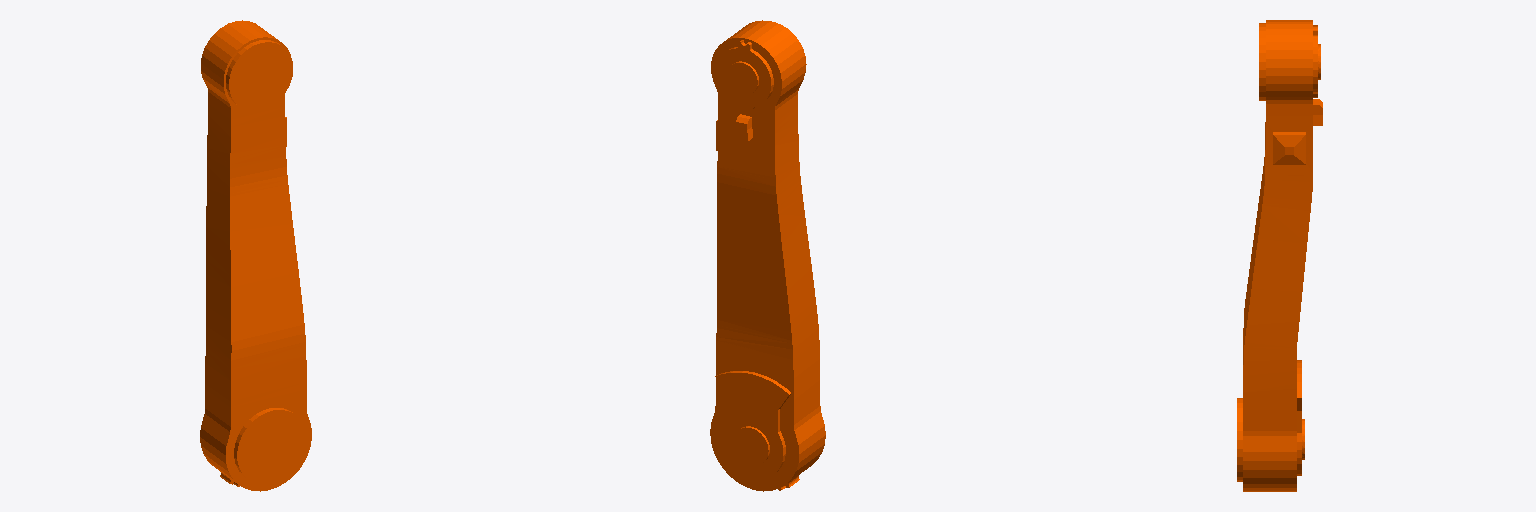
The robot description file, URDF, robot "abb_irb1600_6_12":
<?xml version="1.0" ?>
<!-- =================================================================================== -->
<!-- |    This document was autogenerated by xacro from irb1600_6_12.xacro             | -->
<!-- |    EDITING THIS FILE BY HAND IS NOT RECOMMENDED                                 | -->
<!-- =================================================================================== -->
<robot name="abb_irb1600_6_12">
  <!-- link list -->
  <link name="base_link">
    <visual>
      <origin rpy="0 0 0" xyz="0 0 0"/>
      <geometry>
        <mesh filename="package://abb_irb1600_support/meshes/irb1600/visual/base_link.stl"/>
      </geometry>
      <material name="abb_orange">
        <color rgba="1 0.43 0 1"/>
      </material>
    </visual>
    <collision>
      <geometry>
        <mesh filename="package://abb_irb1600_support/meshes/irb1600/collision/base_link.stl"/>
      </geometry>
      <material name="yellow">
        <color rgba="0 1 1 1"/>
      </material>
    </collision>
  </link>
  <link name="link_1">
    <visual>
      <origin rpy="0 0 0" xyz="0 0 0"/>
      <geometry>
        <mesh filename="package://abb_irb1600_support/meshes/irb1600/visual/link_1.stl"/>
      </geometry>
      <material name="abb_orange"/>
    </visual>
    <collision>
      <origin rpy="0 0 0" xyz="0 0 0"/>
      <geometry>
        <mesh filename="package://abb_irb1600_support/meshes/irb1600/collision/link_1.stl"/>
      </geometry>
      <material name="yellow"/>
    </collision>
  </link>
  <link name="link_2">
    <visual>
      <origin rpy="0 0 0" xyz="0 0 0"/>
      <geometry>
        <mesh filename="package://abb_irb1600_support/meshes/irb1600_6_12/visual/link_2.stl"/>
      </geometry>
      <material name="abb_orange"/>
    </visual>
    <collision>
      <origin rpy="0 0 0" xyz="0 0 0"/>
      <geometry>
        <mesh filename="package://abb_irb1600_support/meshes/irb1600_6_12/collision/link_2.stl"/>
      </geometry>
      <material name="yellow"/>
    </collision>
  </link>
  <link name="link_3">
    <visual>
      <origin rpy="0 0 0" xyz="0 0 0"/>
      <geometry>
        <mesh filename="package://abb_irb1600_support/meshes/irb1600/visual/link_3.stl"/>
      </geometry>
      <material name="abb_orange"/>
    </visual>
    <collision>
      <origin rpy="0 0 0" xyz="0 0 0"/>
      <geometry>
        <mesh filename="package://abb_irb1600_support/meshes/irb1600/collision/link_3.stl"/>
      </geometry>
      <material name="yellow"/>
    </collision>
  </link>
  <link name="link_4">
    <visual>
      <origin rpy="0 0 0" xyz="0 0 0"/>
      <geometry>
        <mesh filename="package://abb_irb1600_support/meshes/irb1600/visual/link_4.stl"/>
      </geometry>
      <material name="abb_orange"/>
    </visual>
    <collision>
      <origin rpy="0 0 0" xyz="0 0 0"/>
      <geometry>
        <mesh filename="package://abb_irb1600_support/meshes/irb1600/collision/link_4.stl"/>
      </geometry>
      <material name="yellow"/>
    </collision>
  </link>
  <link name="link_5">
    <visual>
      <origin rpy="0 0 0" xyz="0 0 0"/>
      <geometry>
        <mesh filename="package://abb_irb1600_support/meshes/irb1600/visual/link_5.stl"/>
      </geometry>
      <material name="abb_orange"/>
    </visual>
    <collision>
      <origin rpy="0 0 0" xyz="0 0 0"/>
      <geometry>
        <mesh filename="package://abb_irb1600_support/meshes/irb1600/collision/link_5.stl"/>
      </geometry>
      <material name="yellow"/>
    </collision>
  </link>
  <link name="link_6">
    <visual>
      <origin rpy="0 0 0" xyz="0 0 0"/>
      <geometry>
        <mesh filename="package://abb_irb1600_support/meshes/irb1600/visual/link_6.stl"/>
      </geometry>
      <material name="abb_orange"/>
    </visual>
    <collision>
      <origin rpy="0 0 0" xyz="0 0 0"/>
      <geometry>
        <mesh filename="package://abb_irb1600_support/meshes/irb1600/collision/link_6.stl"/>
      </geometry>
      <material name="yellow"/>
    </collision>
  </link>
  <!-- end of link list -->
  <!-- joint list -->
  <joint name="joint_1" type="revolute">
    <origin rpy="0 0 0" xyz="0 0 0"/>
    <parent link="base_link"/>
    <child link="link_1"/>
    <axis xyz="0 0 1"/>
    <limit effort="0" lower="-3.141592653589793" upper="3.141592653589793" velocity="2.618"/>
  </joint>
  <joint name="joint_2" type="revolute">
    <origin rpy="0 0 0" xyz="0.15 0 0.4865"/>
    <parent link="link_1"/>
    <child link="link_2"/>
    <axis xyz="0 1 0"/>
    <limit effort="0" lower="-1.0995" upper="1.9198" velocity="2.7925"/>
  </joint>
  <joint name="joint_3" type="revolute">
    <origin rpy="0 0 0" xyz="0 0 0.475"/>
    <parent link="link_2"/>
    <child link="link_3"/>
    <axis xyz="0 1 0"/>
    <limit effort="0" lower="-4.1015" upper="0.9599" velocity="2.9670"/>
  </joint>
  <joint name="joint_4" type="revolute">
    <origin rpy="0 0 0" xyz="0.300 0 0"/>
    <parent link="link_3"/>
    <child link="link_4"/>
    <axis xyz="1 0 0"/>
    <limit effort="0" lower="-3.4906" upper="3.4906" velocity="5.5850"/>
  </joint>
  <joint name="joint_5" type="revolute">
    <origin rpy="0 0 0" xyz="0.300 0 0"/>
    <parent link="link_4"/>
    <child link="link_5"/>
    <axis xyz="0 1 0"/>
    <limit effort="0" lower="-2.0071" upper="2.0071" velocity="6.9813"/>
  </joint>
  <joint name="joint_6" type="revolute">
    <origin rpy="0 0 0" xyz="0.065 0 0"/>
    <parent link="link_5"/>
    <child link="link_6"/>
    <axis xyz="1 0 0"/>
    <limit effort="0" lower="-6.9813" upper="6.9813" velocity="7.854"/>
  </joint>
  <!-- end of joint list -->
  <!-- ROS-Industrial 'base' frame: base_link to ABB World Coordinates transform -->
  <link name="base"/>
  <joint name="base_link-base" type="fixed">
    <origin rpy="0 0 0" xyz="0 0 0"/>
    <parent link="base_link"/>
    <child link="base"/>
  </joint>
  <!-- ROS-Industrial 'flange' frame: attachment point for EEF models -->
  <link name="flange"/>
  <joint name="joint_6-flange" type="fixed">
    <origin rpy="0 0 0" xyz="0 0 0"/>
    <parent link="link_6"/>
    <child link="flange"/>
  </joint>
  <!-- ROS-Industrial 'tool0' frame: all-zeros tool frame -->
  <!-- <link name="tool0"/>
  <joint name="link_6-tool0" type="fixed">
    <origin rpy="0 1.5707963267948966 0" xyz="0 0 0"/>
    <parent link="flange"/>
    <child link="tool0"/>
  </joint> -->
  <!-- PowerScan - tool0 -->
  <link name="PowerScan">
    <visual>
      <origin rpy="0 0 0" xyz="0 0 0"/>
      <geometry>
        <mesh filename="package://view_planner/model/PowerScan_small.stl"/>
      </geometry>
      <material name="abb_orange"/>
    </visual>
    <collision>
      <origin rpy="0 0 0" xyz="0 0 0"/>
      <geometry>
        <mesh filename="package://view_planner/model/PowerScan_small.stl"/>
      </geometry>
      <material name="yellow"/>
    </collision>
  </link>
  <joint name="link_6-PowerScan" type="fixed">
    <origin rpy="0 1.5707963267948966 0" xyz="0 0 0"/>
    <parent link="flange"/>
    <child link="PowerScan"/>
  </joint>
</robot>

--- What the picture shows (computed from the rendered views, not written in the file) ---
3 views of the same robot in one strip: view 1: azimuth 30°, elevation 25°; view 2: azimuth 150°, elevation 25°; view 3: azimuth 270°, elevation 25° (orthographic).
Robot: abb_irb1600_6_12 — 10 links, 9 joints (6 revolute, 3 fixed); root link base_link; default pose: all joints at 0.
Visible links, largest first — view 1: link_2; view 2: link_2; view 3: link_2.
Boxes of the visible links, bbox=[...] form: link_2: bbox=[200, 20, 311, 491]; link_2: bbox=[710, 20, 825, 491]; link_2: bbox=[1237, 20, 1322, 491].
Bounding box of the posed robot: 0.1748 × 0.146 × 0.8583 m (x, y, z).
1 mesh visuals loaded from 8 distinct referenced files (1 binary STL); not drawn: 7 (reference not matched to a file when rendering).